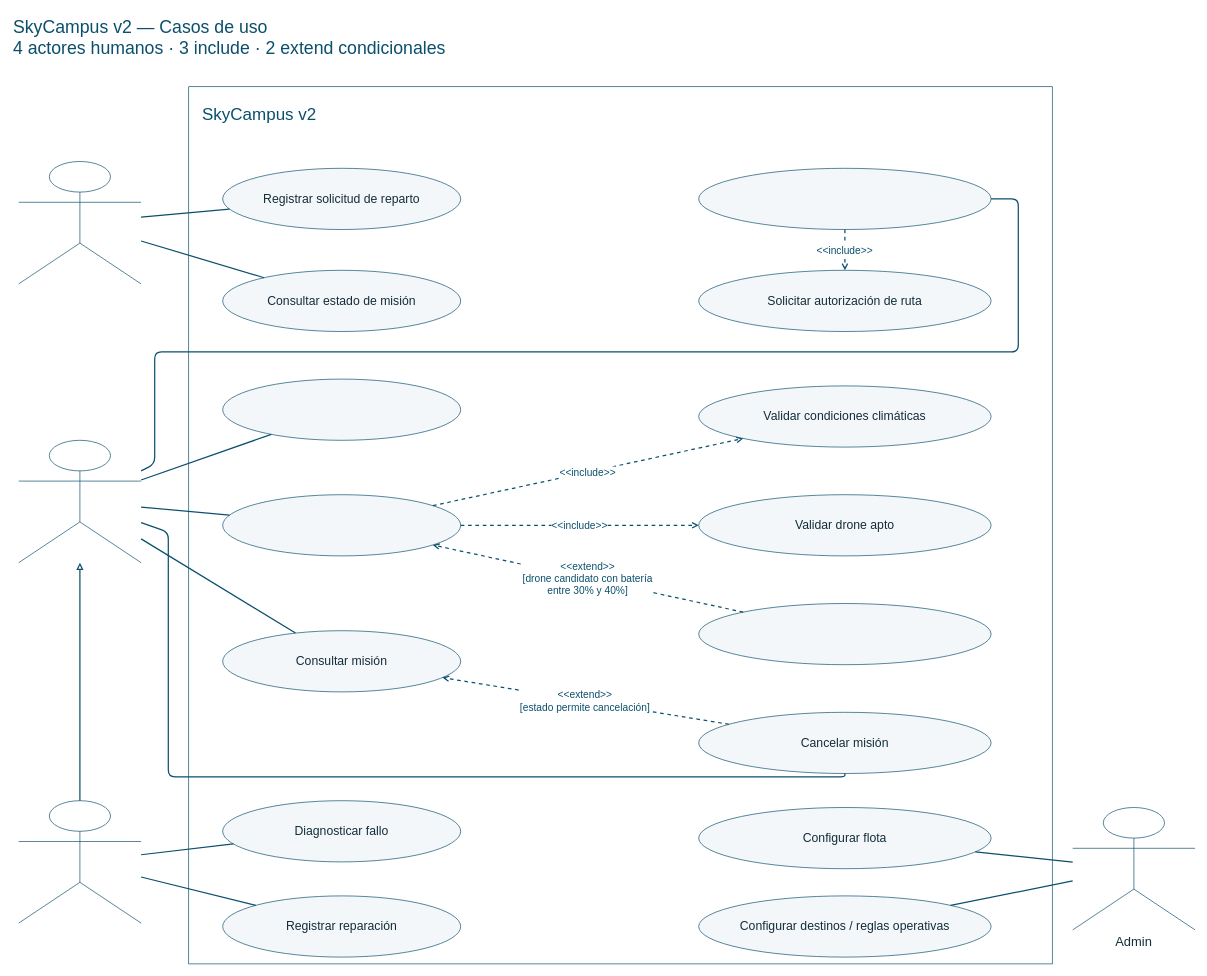
This 1207x976 diagram has some shape labels left out. Here are the shapes that lost their labels. From the top down, the box of each, then its label:
(698, 168, 991, 230): Confirmar inicio de vuelo
(18, 161, 141, 284): Solicitante
(222, 378, 461, 440): Ver flota
(18, 440, 141, 563): Operador
(222, 494, 461, 556): Asignar drone automáticamente
(698, 603, 991, 665): Alertar técnico
(18, 800, 141, 923): Técnico de mantenimiento
